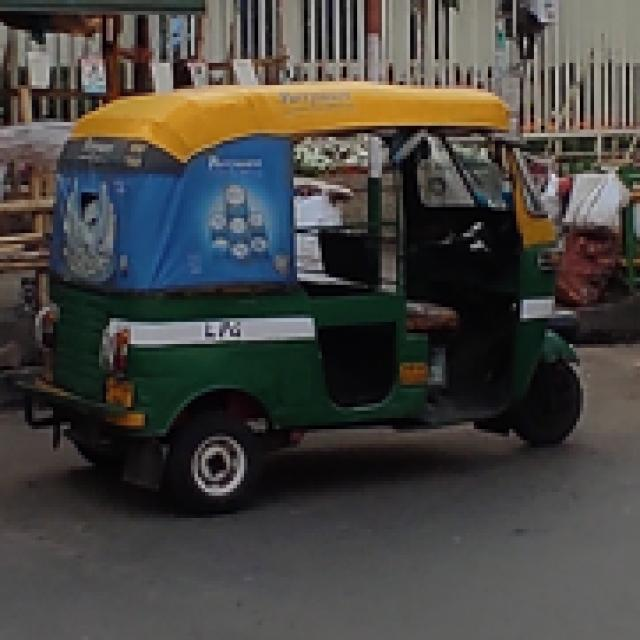autorickshaw: (18, 70, 590, 522)
